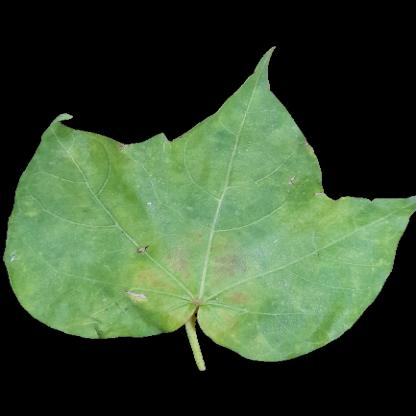curl_stage1: (129, 245, 278, 343), (92, 193, 197, 246), (254, 202, 372, 243), (5, 250, 49, 305)
healthy: (283, 255, 372, 318), (49, 242, 132, 303), (219, 125, 295, 184)
